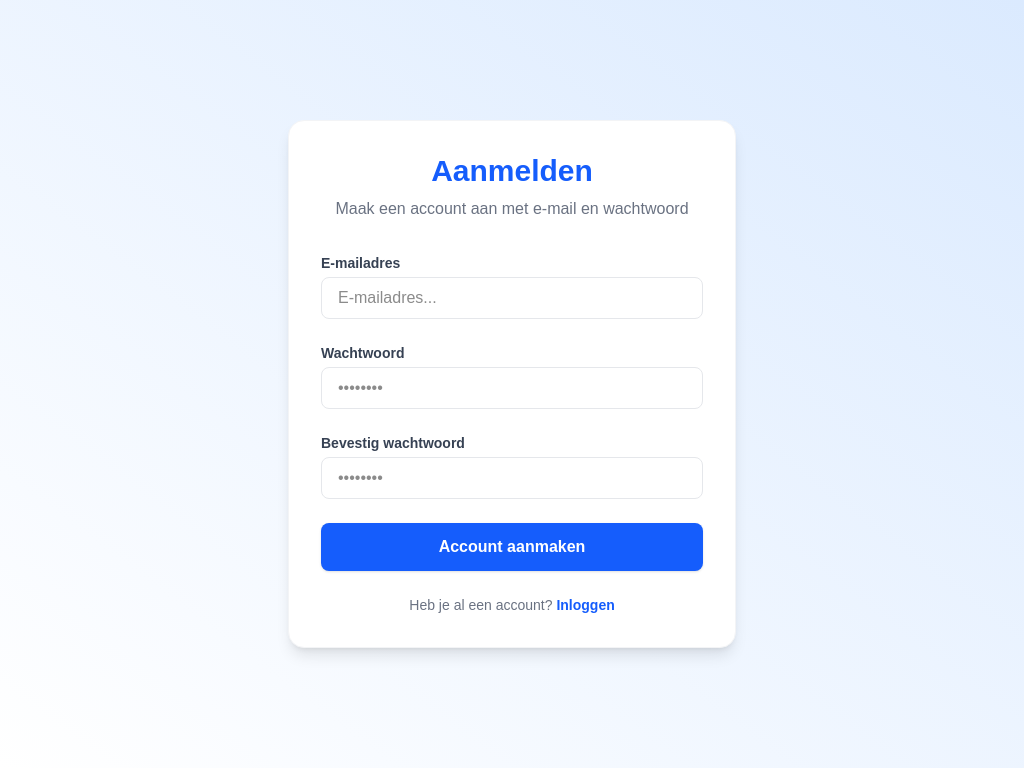
Test case: SignupPage › shows error if signUp throws an error
In the field labelled "E-mailadres": (512, 298) [321,277,703,319], type "test@example.com"
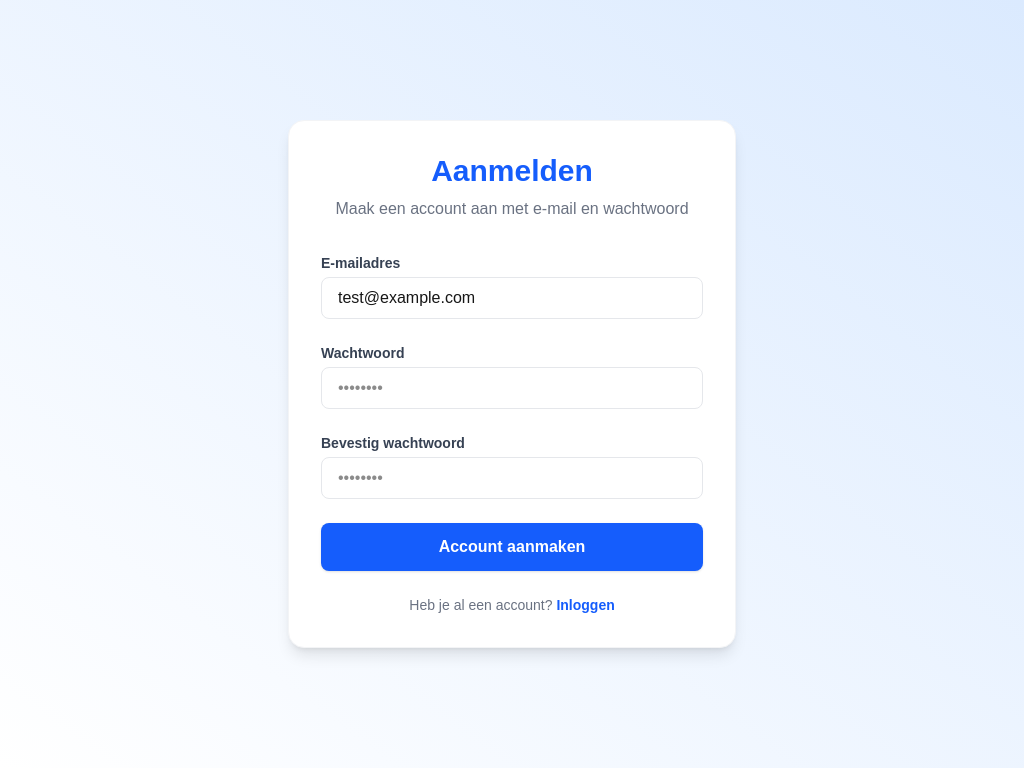
In the password field labelled "Wachtwoord": (512, 388) [321,367,703,409], type "password123"
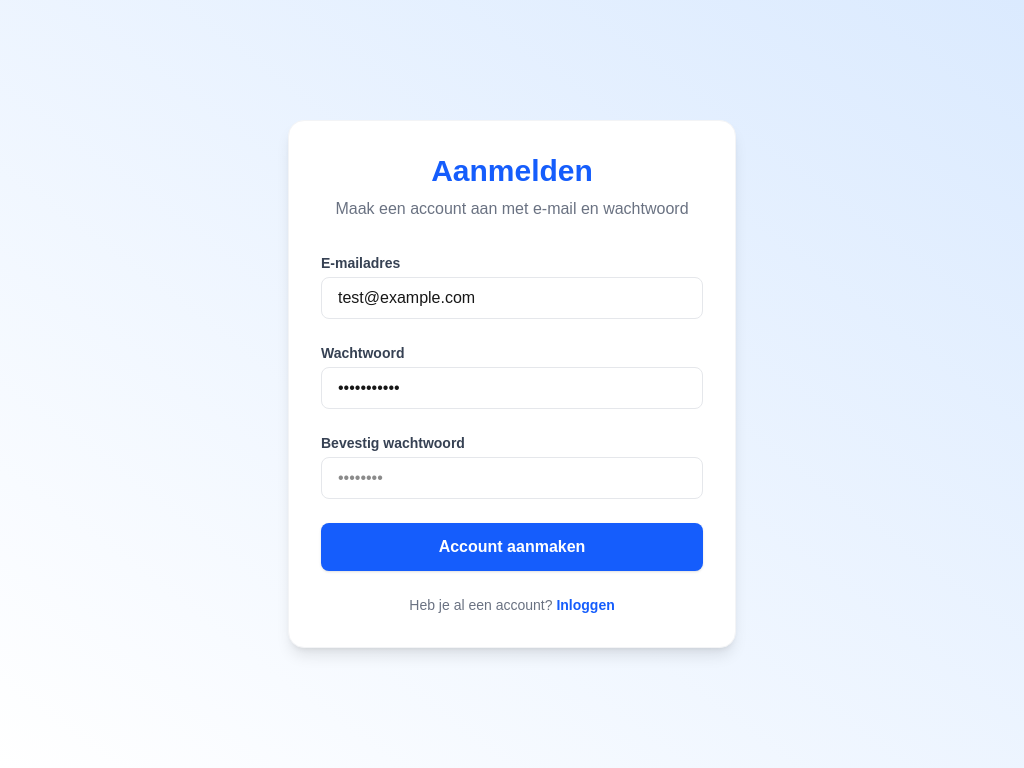
In the password field labelled "Bevestig wachtwoord": (512, 478) [321,457,703,499], type "password123"
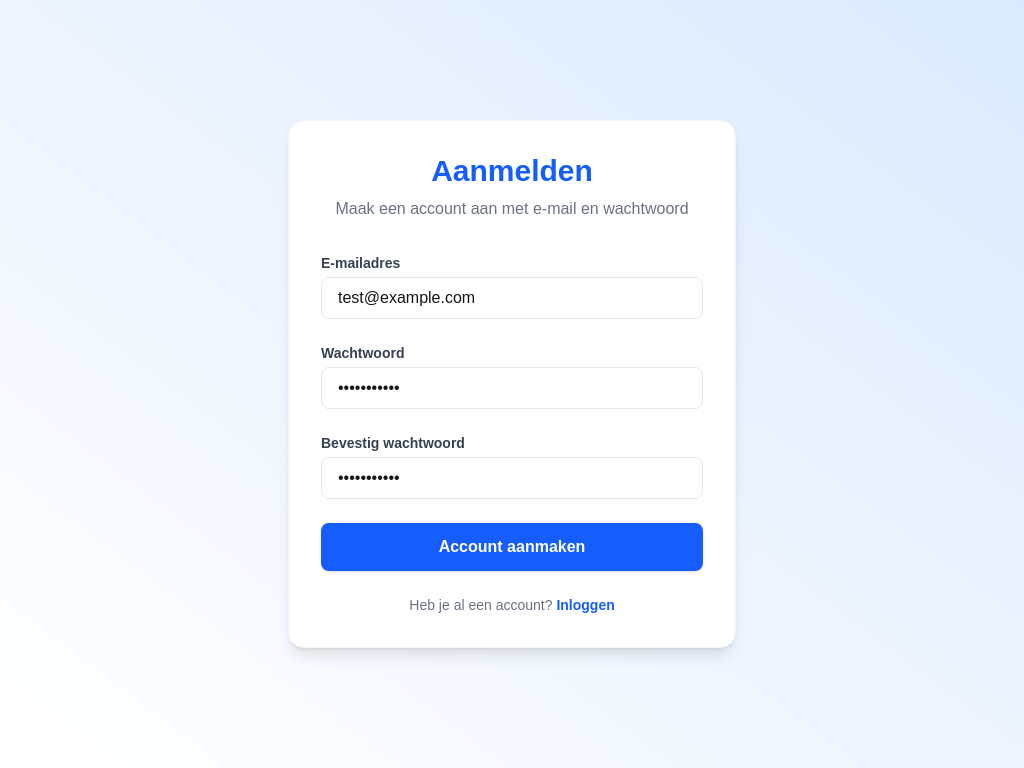
Submit the form from the button "Account aanmaken", box [321,523,703,571]
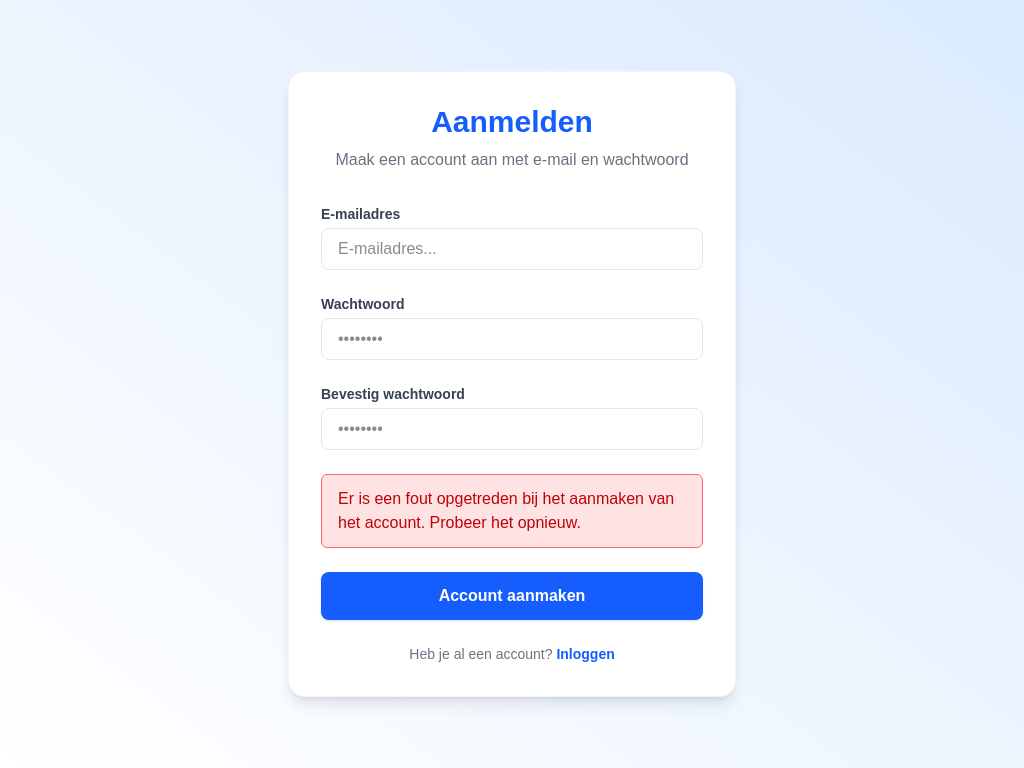
expect the text "Er is een fout opgetreden bij het aanmaken van het account. Probeer het opnieuw." is shown: met, box [321,474,703,548]
